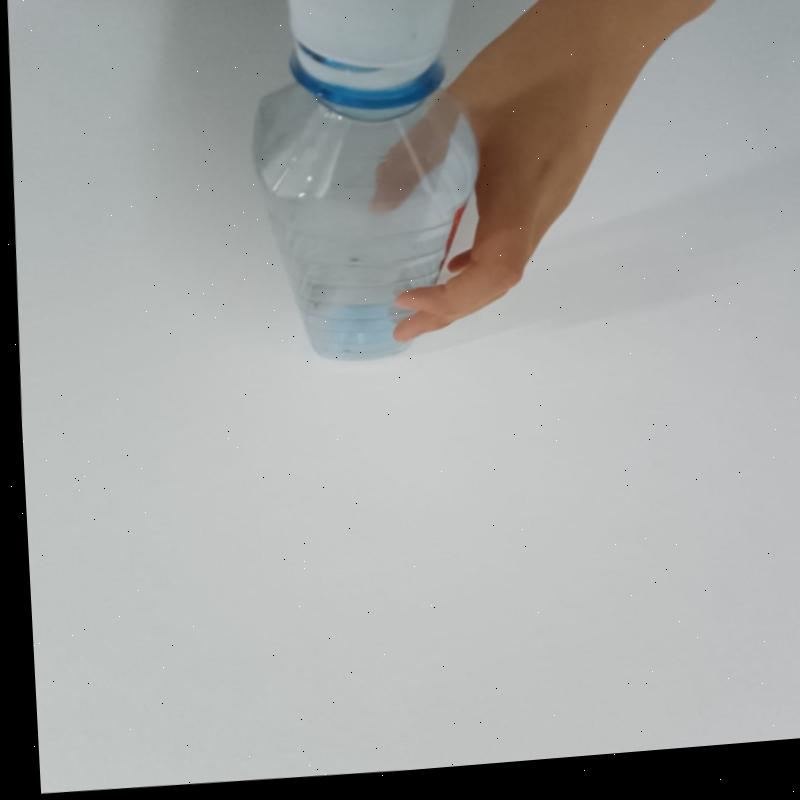botella: (232, 0, 483, 375)
